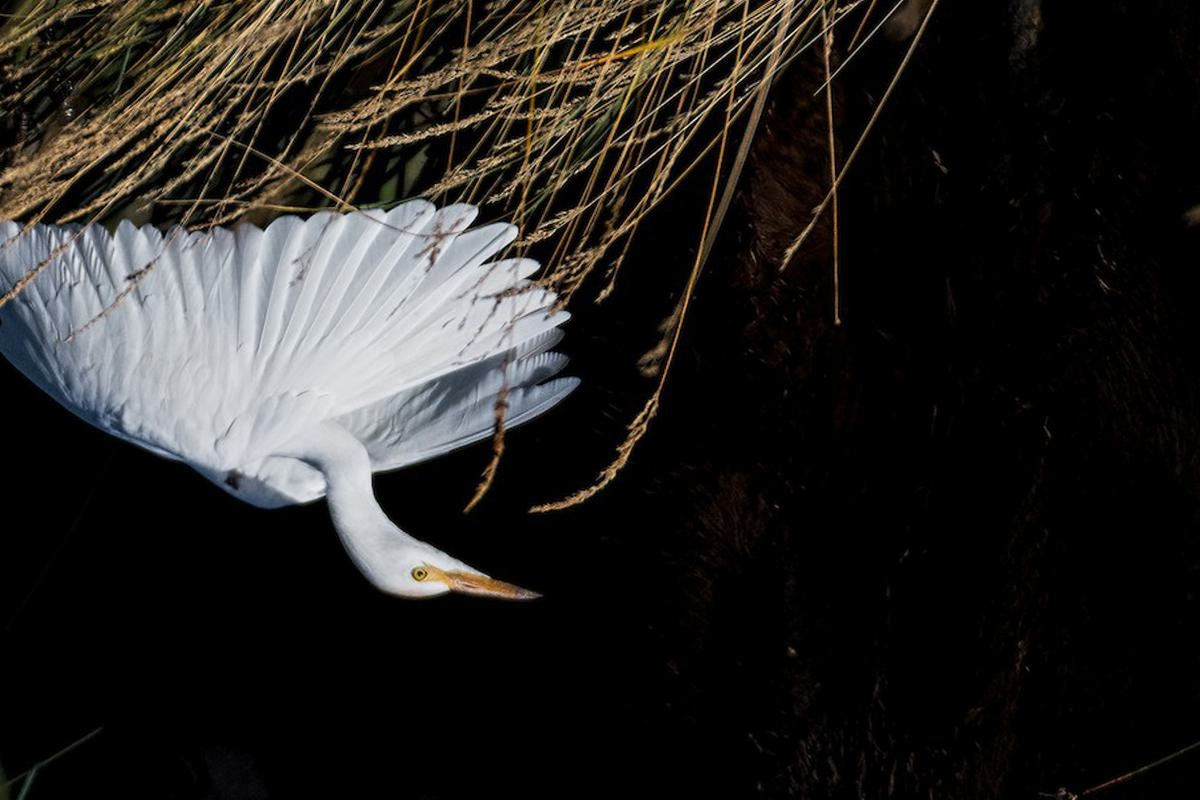egret: (1, 186, 597, 621)
